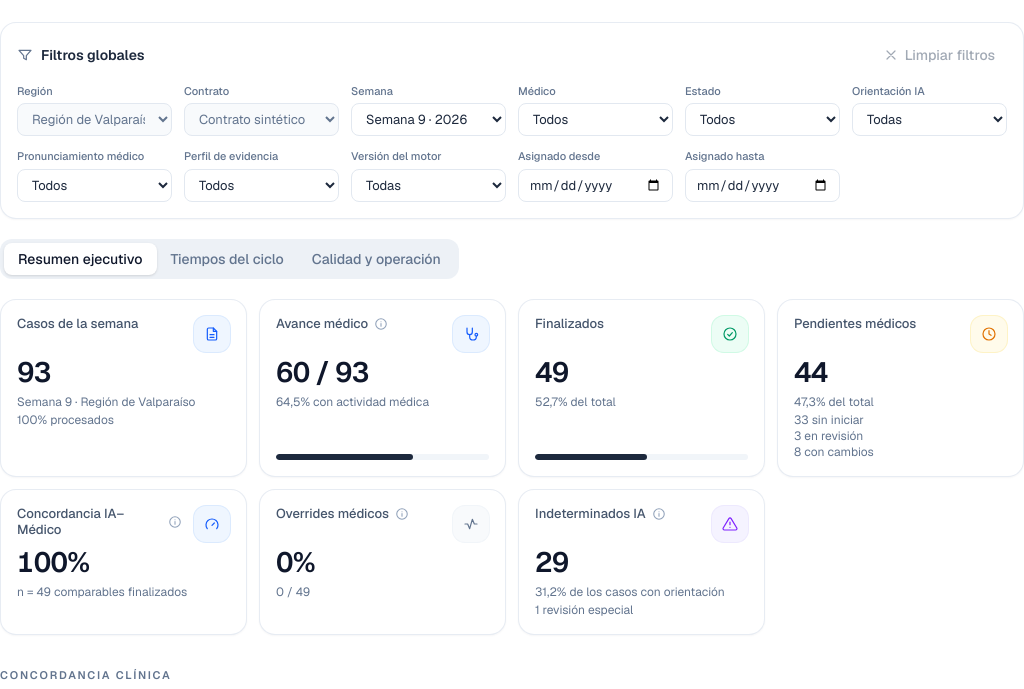
Scenario: Dashboard ejecutivo · tiempos del ciclo › G/H · ciclo médico sin telemetría: «—», «Sin datos todavía»; ningún minuto inventado
expect the element "Finalizados" is shown: met, box [518,299,765,477]
Click the tab "Tiempos del ciclo" at (227,259), box [156,243,298,275]
(page scrolled)
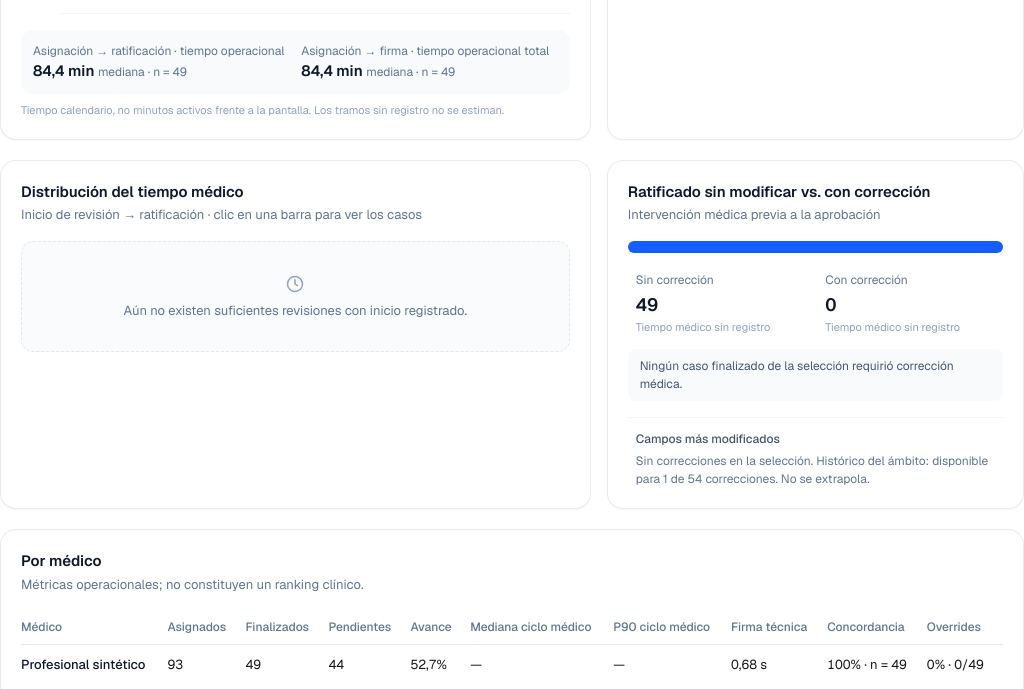
expect the text "Aún no existen suficientes revisiones con inicio registrado." is shown: met, box [124,302,467,319]
